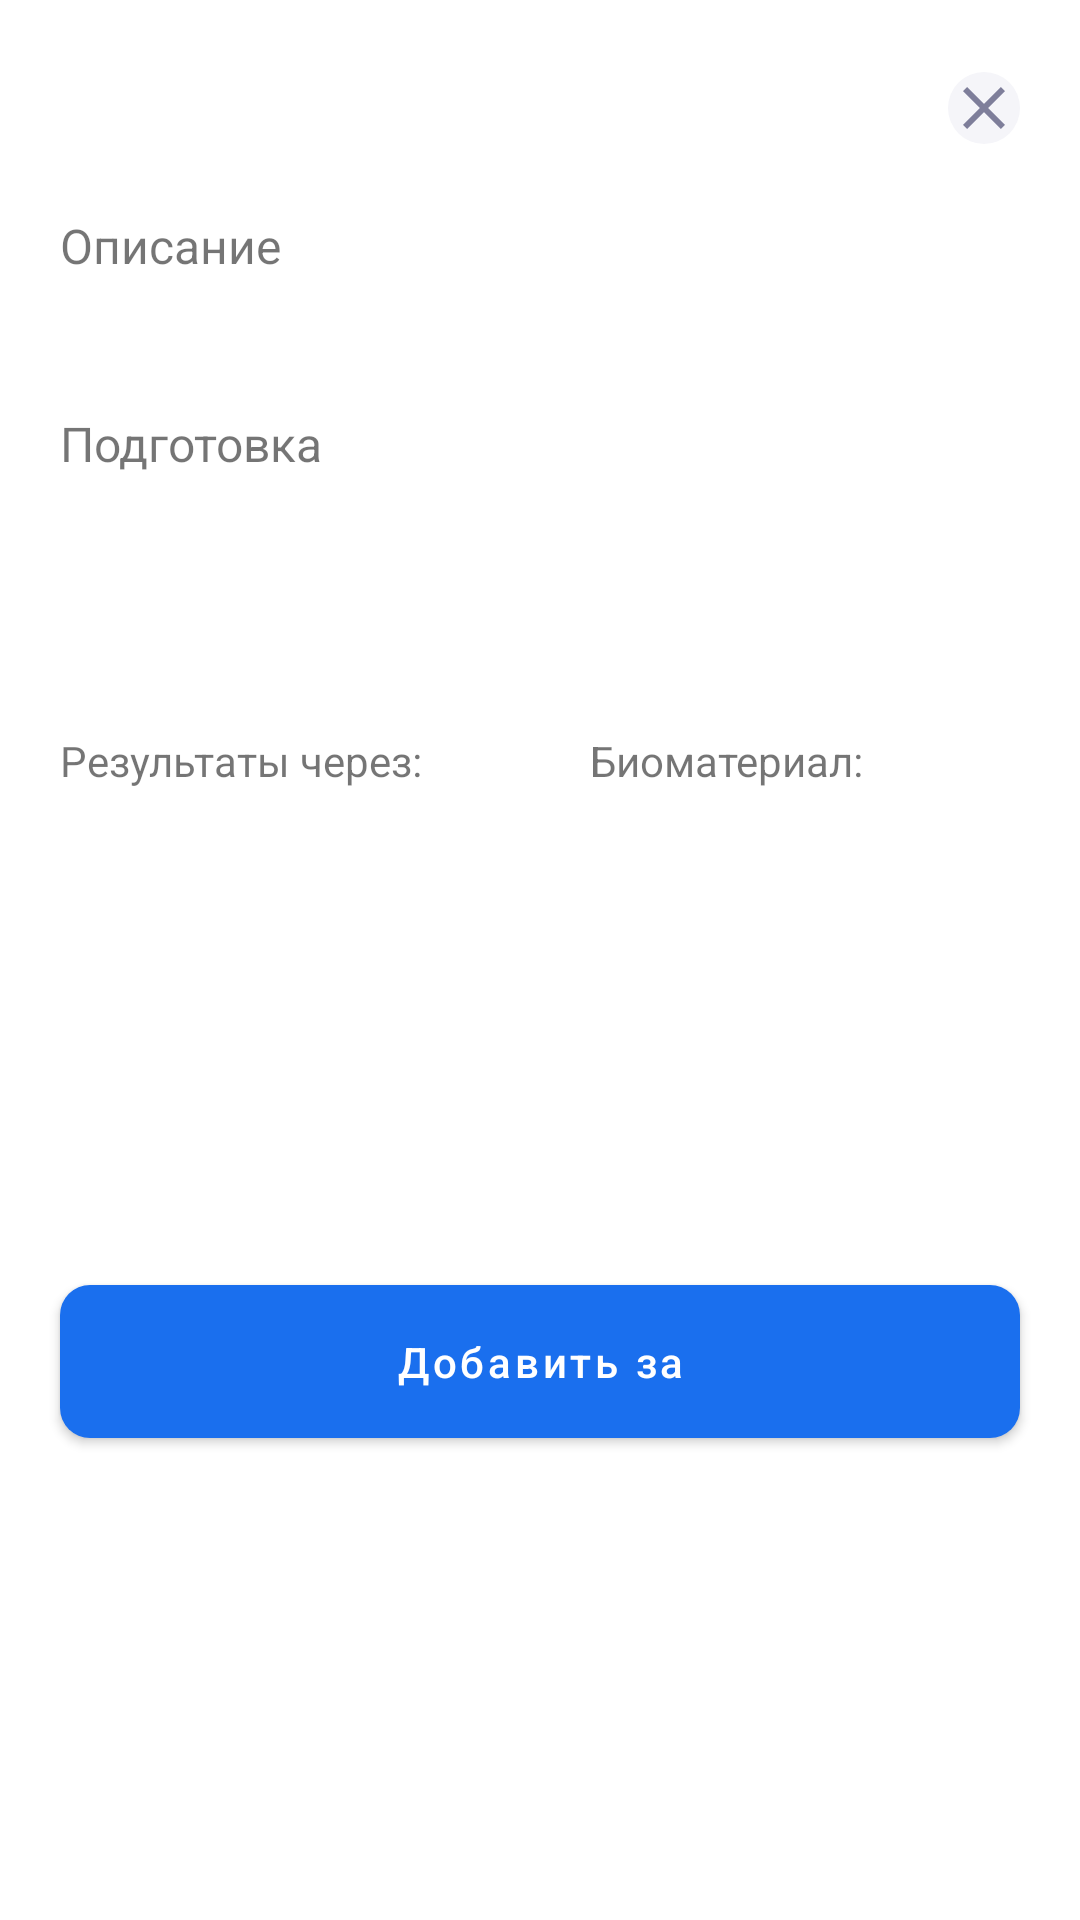

Named icons in this screenshot (1080 x 1920) and their centers, (x,y):
close: (984,108)
